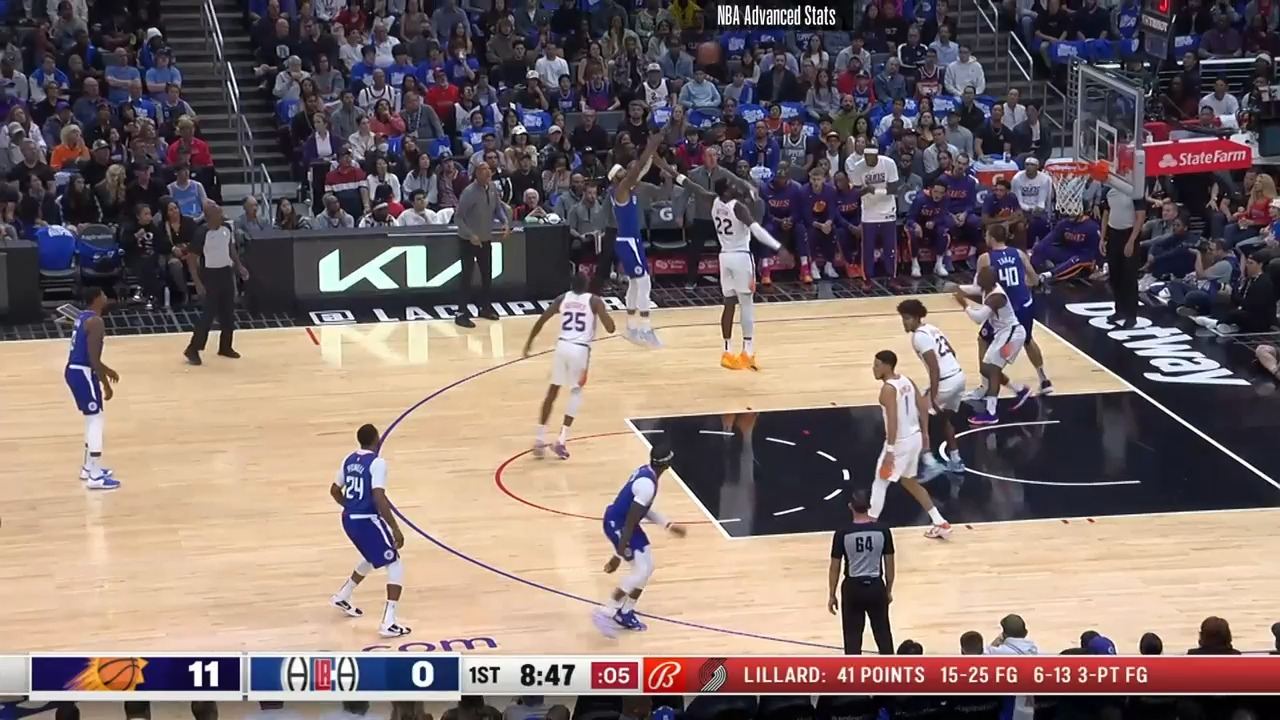net: (1045, 155, 1111, 211)
player: (524, 273, 620, 466), (336, 422, 418, 644), (602, 449, 694, 641), (857, 348, 943, 541), (892, 295, 973, 478), (705, 176, 778, 374), (600, 137, 666, 355), (64, 287, 129, 497), (978, 226, 1054, 402), (953, 276, 1030, 427)
referee: (826, 496, 899, 659), (183, 203, 249, 368), (1095, 176, 1149, 336)
